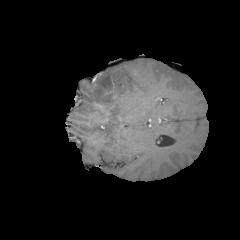glioma: (75, 74, 121, 128)
